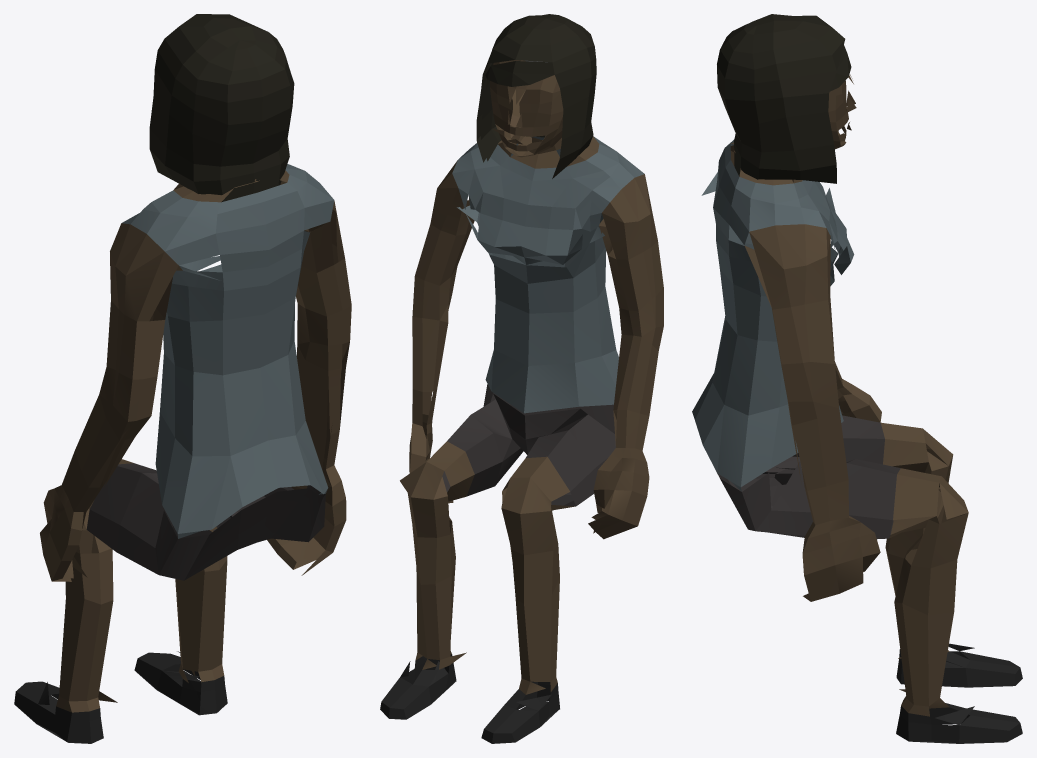
File: person_5_sit.fbx
The picture shows the model from 3 angles, left to right: view 1: azimuth 30°, elevation 25°; view 2: azimuth 150°, elevation 25°; view 3: azimuth 270°, elevation 25°; orthographic projection. The views are drawn at different scales.
Visible parts, largest first — view 1: BaseHuman.000; view 2: BaseHuman.000; view 3: BaseHuman.000.
Boxes of the visible parts, x1,y1,x2,y2 form: BaseHuman.000: [14, 14, 351, 743]; BaseHuman.000: [380, 14, 663, 743]; BaseHuman.000: [692, 14, 1022, 743].
Size of the model in its own units: 0.3888 by 1 by 0.4351.
